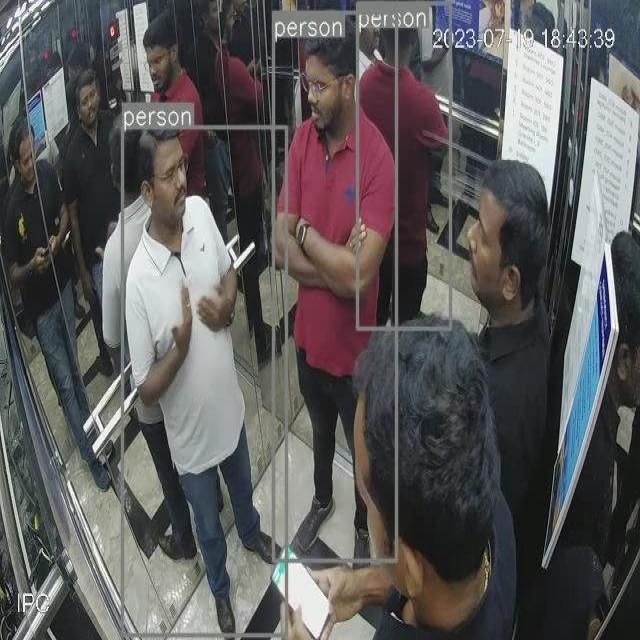person: (123, 130, 288, 630), (293, 319, 537, 637), (277, 38, 395, 558), (12, 130, 112, 498), (463, 148, 548, 540), (358, 16, 455, 329), (133, 13, 221, 204), (69, 68, 123, 276)
